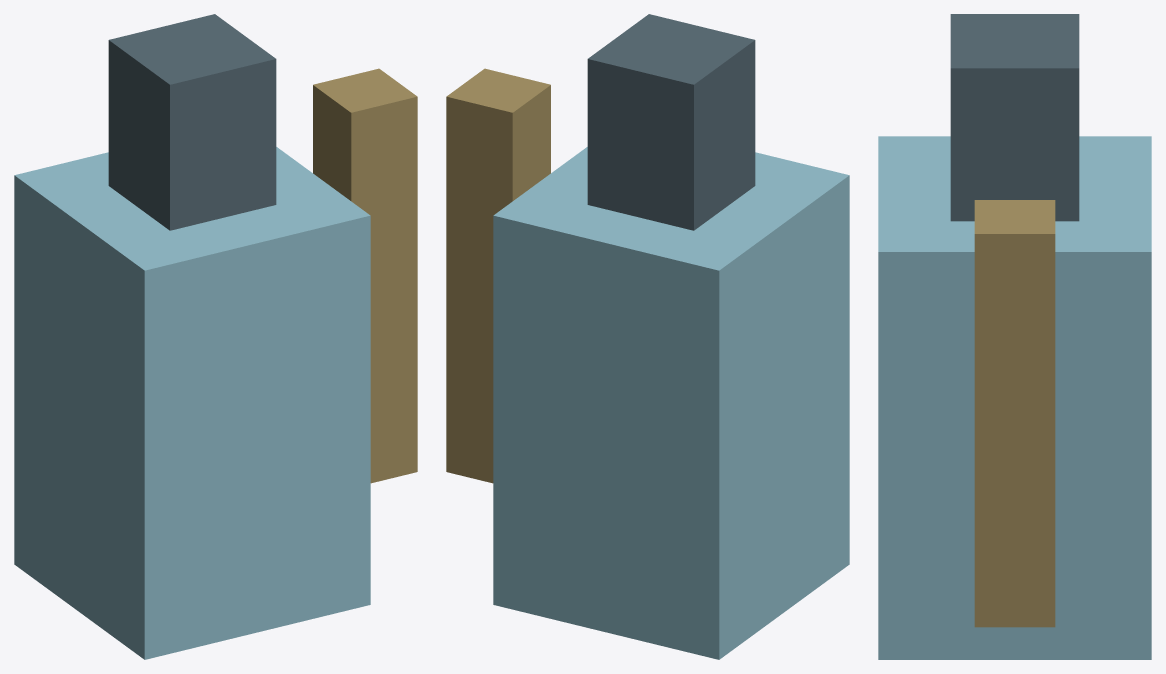
The model's file is herr_alcohol.obj.
3 views of the same model, side by side, from view 1: azimuth 30°, elevation 25°; view 2: azimuth 150°, elevation 25°; view 3: azimuth 270°, elevation 25° (orthographic). The views are drawn at different scales.
Visible parts, largest first — view 1: herr_alcohol.001, herr_alcohol.002, herr_alcohol.003; view 2: herr_alcohol.001, herr_alcohol.002, herr_alcohol.003; view 3: herr_alcohol.001, herr_alcohol.003, herr_alcohol.002.
Part boxes in pixels (x1,y1,x2,y2): herr_alcohol.001: (14, 147, 370, 659); herr_alcohol.002: (108, 14, 276, 230); herr_alcohol.003: (313, 68, 417, 483); herr_alcohol.001: (493, 147, 849, 659); herr_alcohol.002: (587, 14, 755, 230); herr_alcohol.003: (446, 68, 550, 483); herr_alcohol.001: (878, 136, 1151, 659); herr_alcohol.003: (974, 200, 1055, 627); herr_alcohol.002: (950, 14, 1079, 221).
Bounding box in the file's own units: 0.048 × 0.077 × 0.034.
